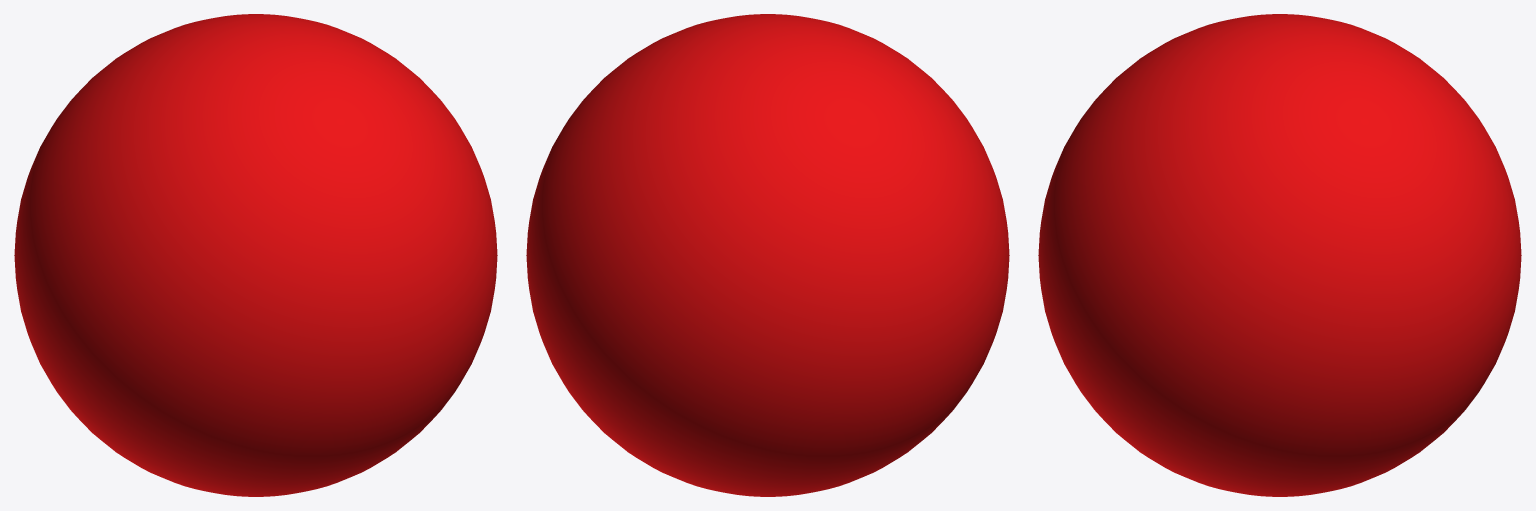
The model's file is LotusOrb.glb.
3 views of the same model, side by side, from view 1: azimuth 30°, elevation 25°; view 2: azimuth 150°, elevation 25°; view 3: azimuth 270°, elevation 25° (orthographic).
Visible parts, largest first — view 1: LotusOrb; view 2: LotusOrb; view 3: LotusOrb.
Part boxes in pixels (x1,y1,x2,y2): LotusOrb: [14, 14, 497, 496]; LotusOrb: [526, 14, 1009, 496]; LotusOrb: [1038, 14, 1521, 496].
Bounding box in the file's own units: 20 × 20 × 20.
